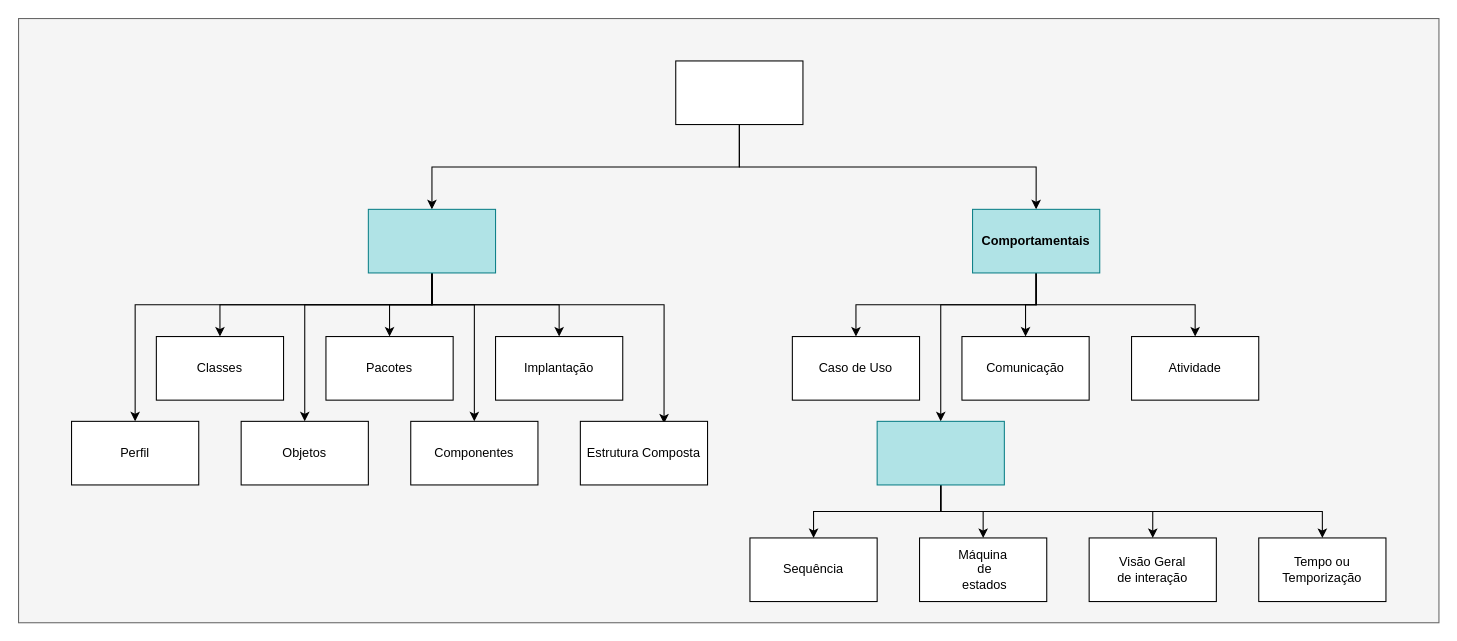
Some shapes in this 1457 by 641 pixel diagram are drawn without their labels. Here are the shapes that lost their labels. From the top down, the centre of each, then its label:
At [739,92]: "Diagramas".
At [431,240]: "Estruturais".
At [940,452]: "Interação".
